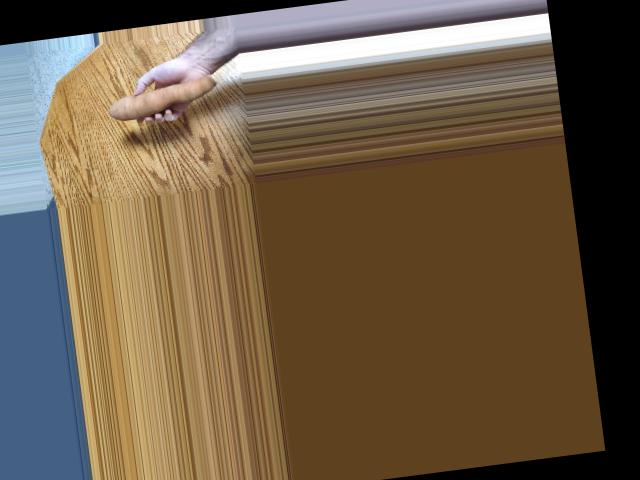sweet_potato: (105, 73, 215, 130)
